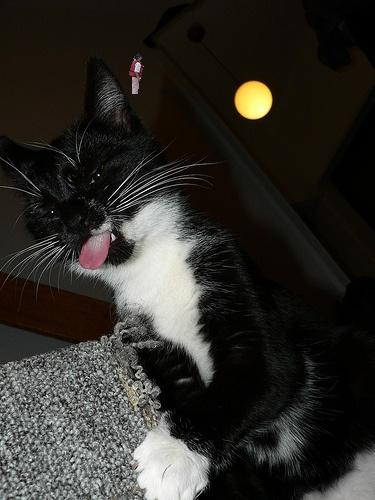tampered: (130, 54, 312, 94)
